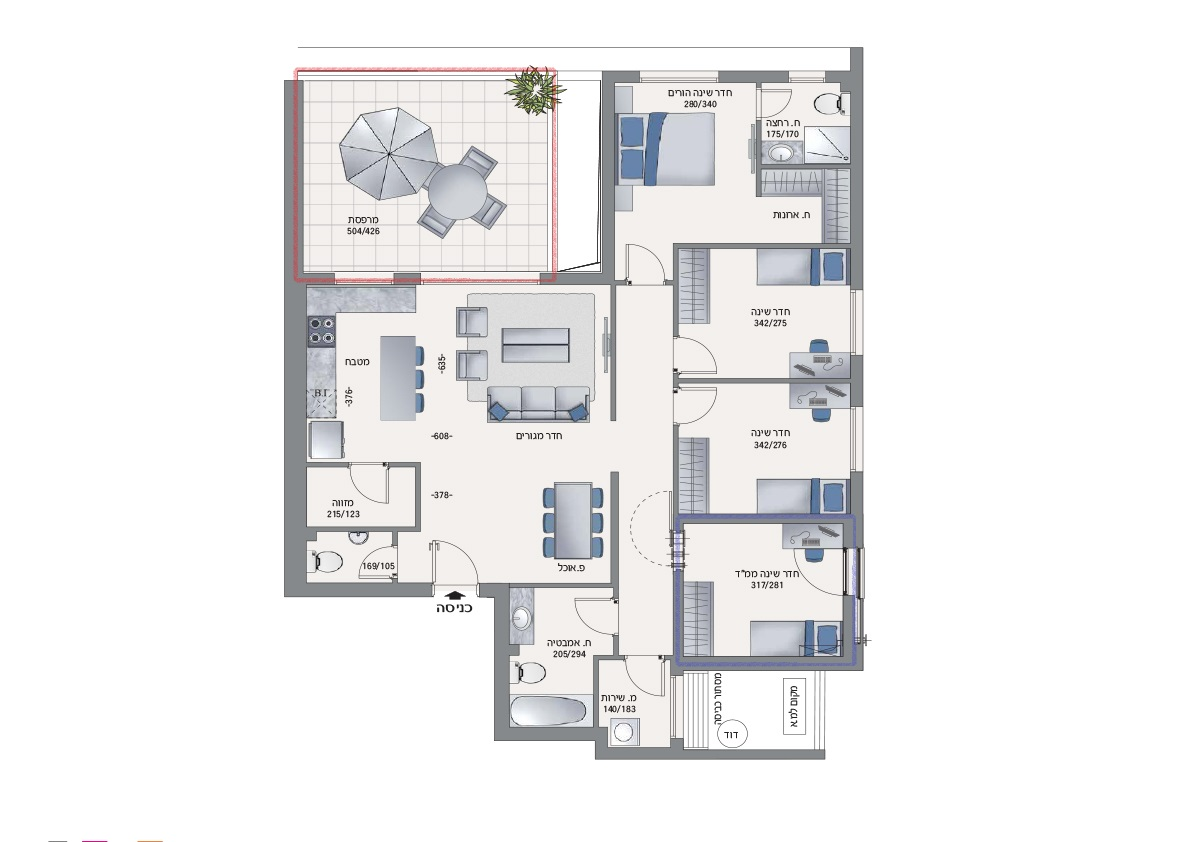balcony: (296, 68, 555, 278)
no: (296, 281, 618, 589), (609, 75, 860, 285), (672, 244, 861, 381), (672, 376, 860, 511), (493, 587, 598, 735), (677, 661, 823, 755), (595, 659, 677, 754)
securityroom: (670, 510, 864, 668)
